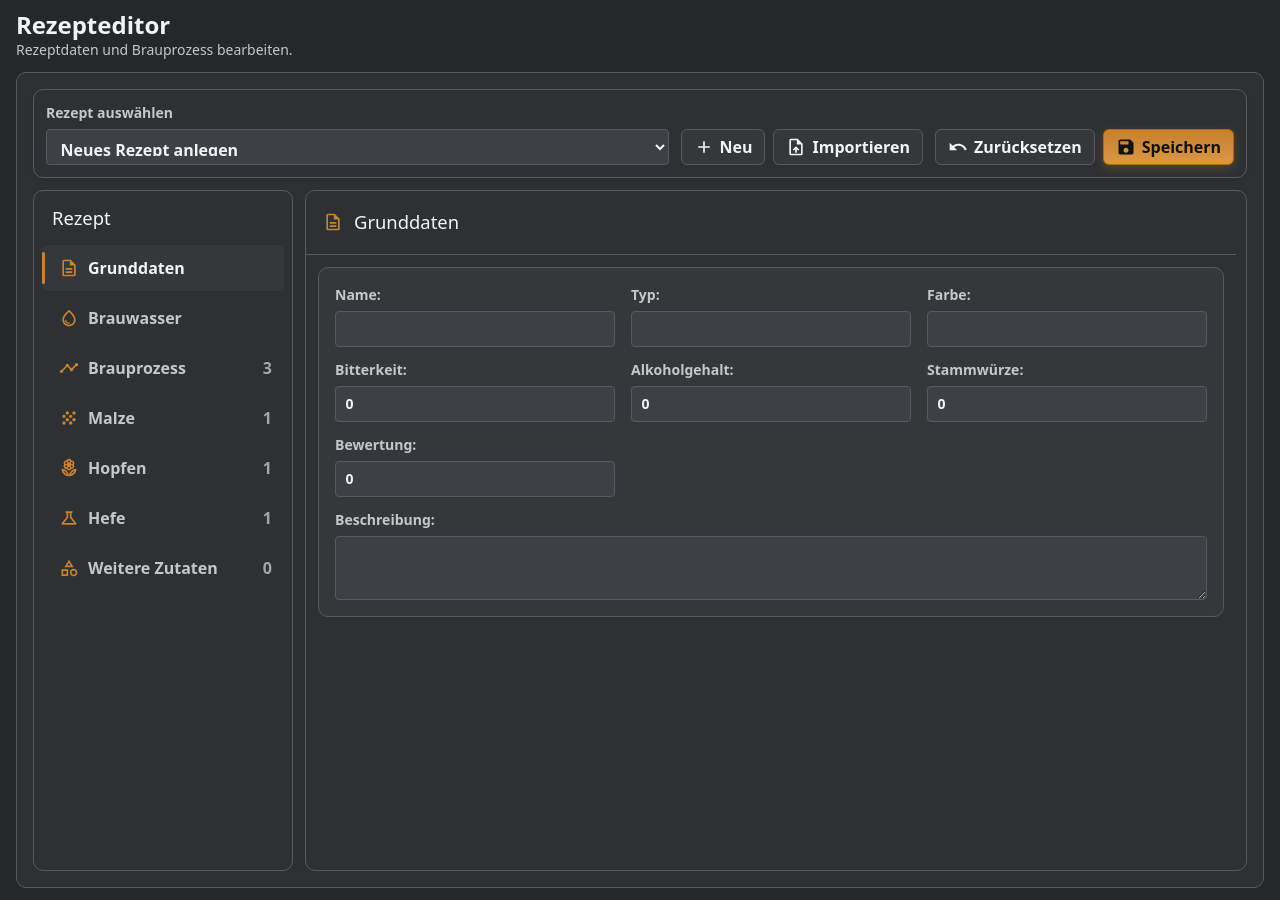
Scenario: BeerForm section navigation › shows one active editor section and keeps values while navigating
Expected: the field labelled "Hauptguss" is not shown
Type "Helles" into the field labelled "Name:" at (475, 329), box x1=335 y1=311 x2=615 y2=347
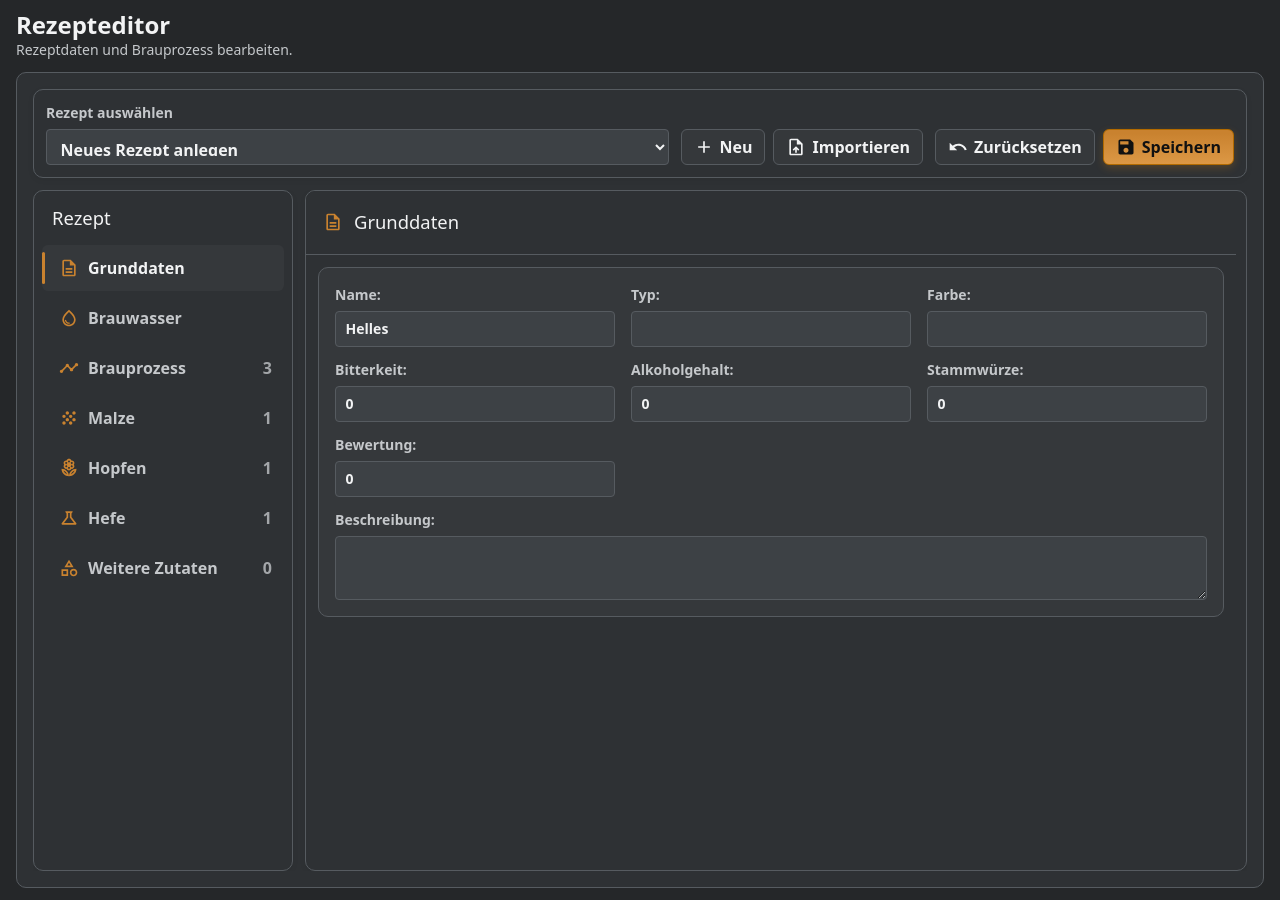
Click the button "Brauwasser" at (163, 318), box x1=42 y1=295 x2=284 y2=341
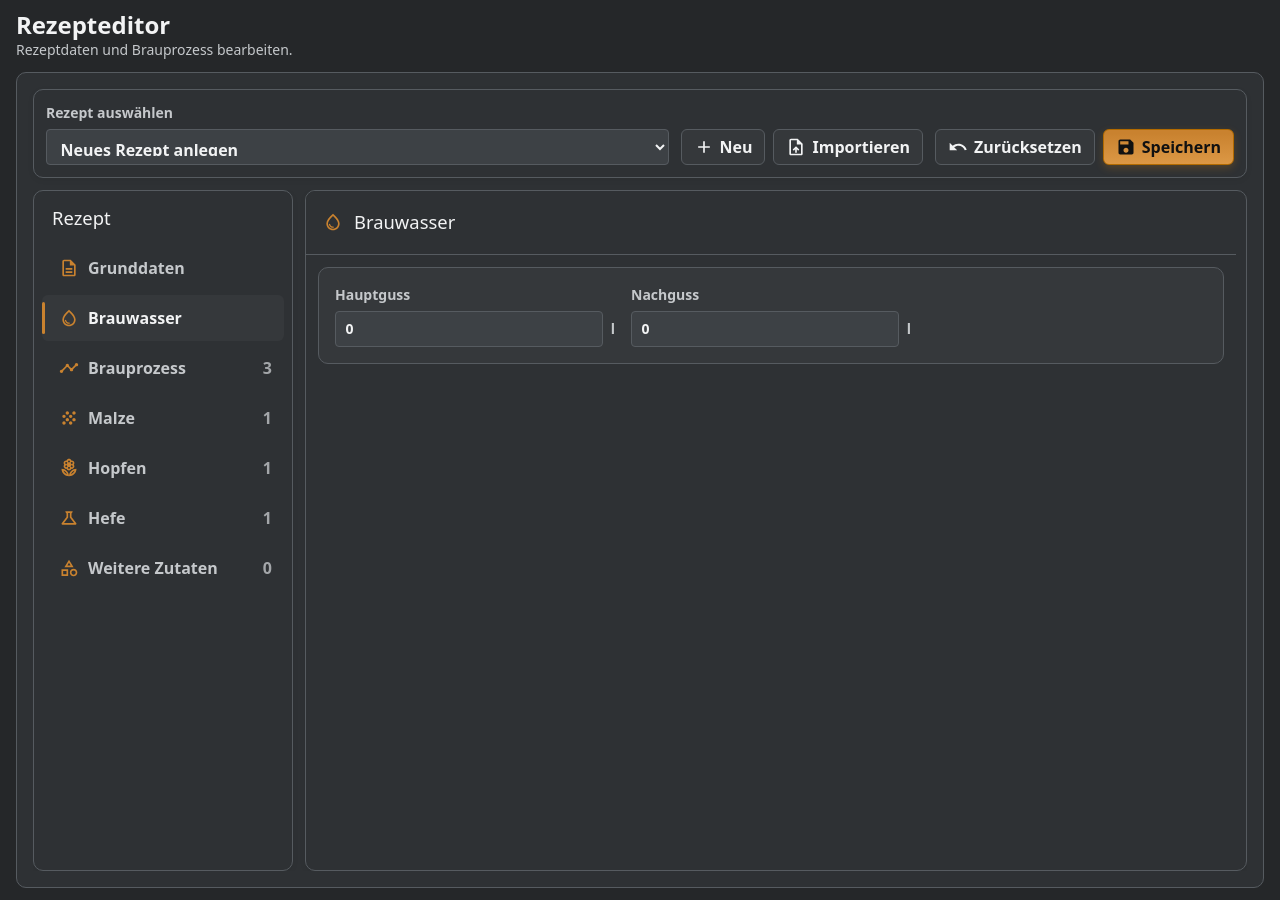
Expected: the number field labelled "Hauptguss l" is shown, x1=335 y1=311 x2=603 y2=347
Expected: the label labelled "Name:" is gone
Click the button "Grunddaten" at (163, 268), box x1=42 y1=245 x2=284 y2=291
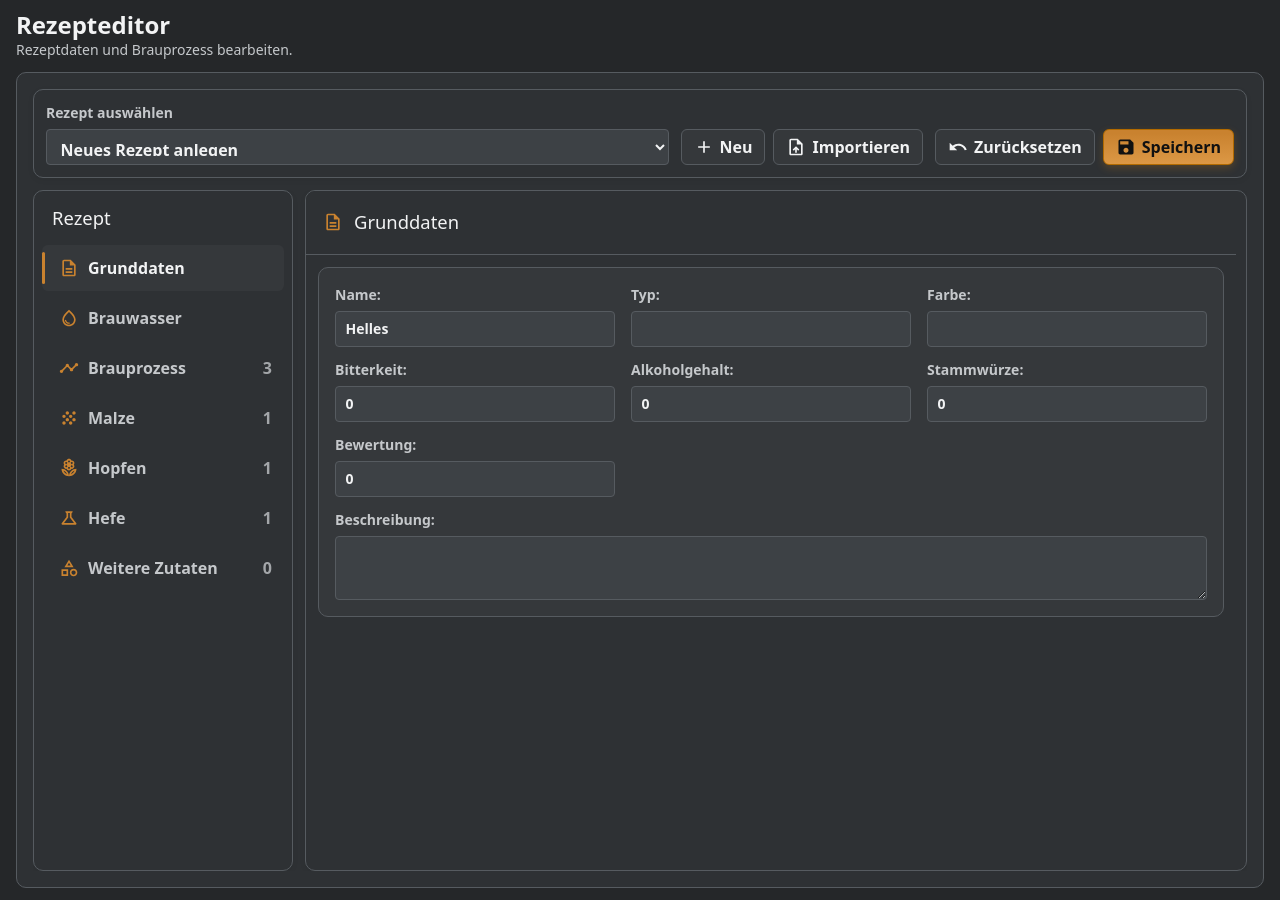
Expected: the field labelled "Name:" holds "Helles", x1=335 y1=311 x2=615 y2=347
